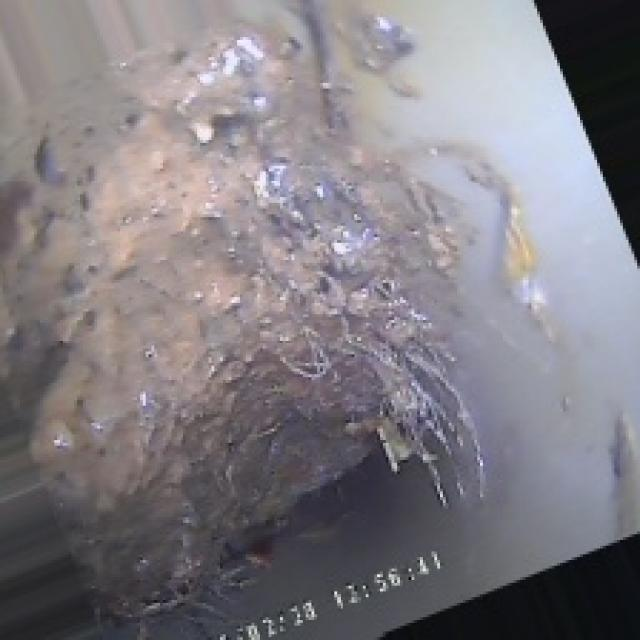sluge accumulation: (63, 86, 500, 537)
